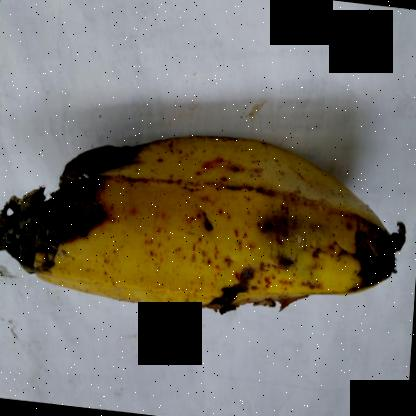rotten: (152, 190, 404, 345), (0, 111, 177, 293)
